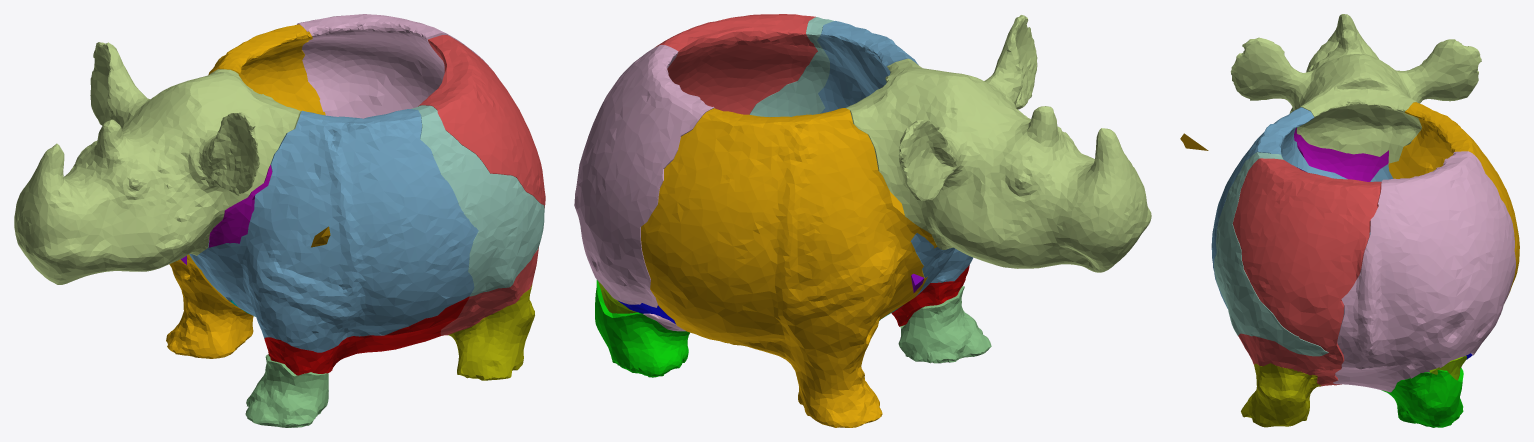
File: fractured_7_20pcs.glb
3 views of the same model, side by side, from view 1: azimuth 30°, elevation 25°; view 2: azimuth 150°, elevation 25°; view 3: azimuth 270°, elevation 25° (orthographic). The views are drawn at different scales.
Parts seen in each view (by area): view 1: piece_2.obj, piece_5.obj, piece_6.obj, piece_1.obj, piece_0.obj, piece_4.obj, piece_11.obj, piece_3.obj, piece_9.obj, piece_12.obj; view 2: piece_0.obj, piece_5.obj, piece_6.obj, piece_1.obj, piece_2.obj, piece_8.obj, piece_3.obj, piece_4.obj, piece_9.obj; view 3: piece_6.obj, piece_1.obj, piece_5.obj, piece_4.obj, piece_0.obj, piece_11.obj, piece_8.obj, piece_2.obj, piece_12.obj, piece_14.obj.
Part boxes in pixels (x1,y1,x2,y2): piece_2.obj: [189, 109, 478, 352]; piece_5.obj: [14, 42, 301, 284]; piece_6.obj: [297, 14, 498, 118]; piece_1.obj: [418, 35, 545, 335]; piece_0.obj: [166, 24, 325, 358]; piece_4.obj: [411, 105, 544, 296]; piece_11.obj: [448, 285, 534, 380]; piece_3.obj: [245, 354, 328, 427]; piece_9.obj: [264, 296, 469, 375]; piece_12.obj: [208, 165, 272, 247]; piece_0.obj: [641, 108, 937, 427]; piece_5.obj: [846, 15, 1151, 272]; piece_6.obj: [574, 45, 714, 331]; piece_1.obj: [654, 14, 817, 114]; piece_2.obj: [817, 21, 972, 296]; piece_8.obj: [595, 280, 689, 377]; piece_3.obj: [898, 286, 991, 363]; piece_4.obj: [749, 17, 833, 116]; piece_9.obj: [891, 265, 969, 326]; piece_6.obj: [1333, 151, 1515, 392]; piece_1.obj: [1232, 158, 1381, 386]; piece_5.obj: [1230, 14, 1481, 163]; piece_4.obj: [1214, 152, 1328, 356]; piece_0.obj: [1388, 102, 1519, 296]; piece_11.obj: [1241, 363, 1321, 427]; piece_8.obj: [1382, 367, 1463, 427]; piece_2.obj: [1211, 107, 1393, 309]; piece_12.obj: [1294, 128, 1388, 181]; piece_14.obj: [1429, 356, 1467, 380].
Bounding box in the file's own units: 1 × 0.6068 × 0.6827.
